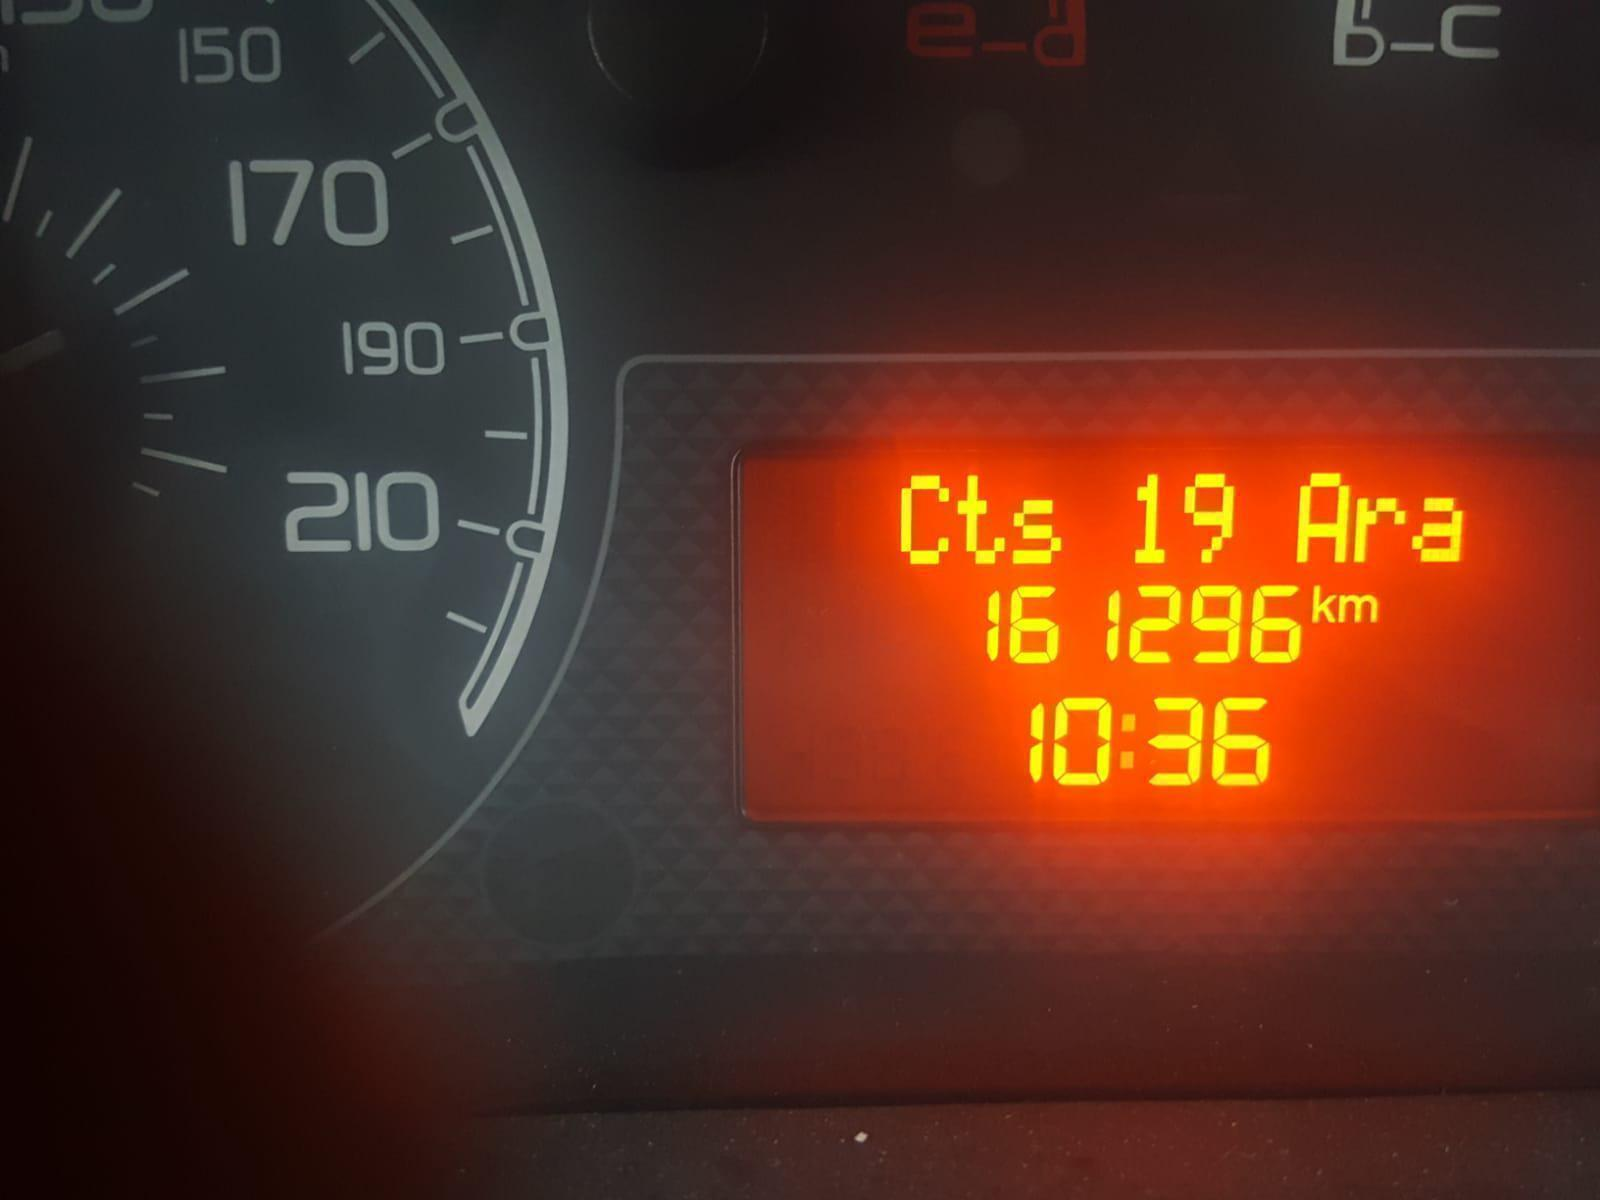0: (1053, 695, 1114, 787)
1: (1131, 468, 1167, 568), (1026, 700, 1046, 785), (981, 584, 1002, 666), (1104, 584, 1123, 666)
2: (1129, 582, 1183, 666)
3: (1148, 693, 1204, 787)
6: (1212, 692, 1274, 787), (1004, 584, 1058, 664), (1250, 581, 1301, 666)
9: (1179, 466, 1237, 565), (1188, 581, 1242, 664)
X: (897, 468, 954, 570), (1296, 466, 1351, 563), (956, 471, 1008, 565), (1354, 494, 1407, 565), (1010, 497, 1063, 567), (1409, 495, 1464, 560), (1337, 591, 1380, 624), (1119, 710, 1138, 771), (1311, 582, 1335, 624)
odometer: (722, 424, 1600, 842)
